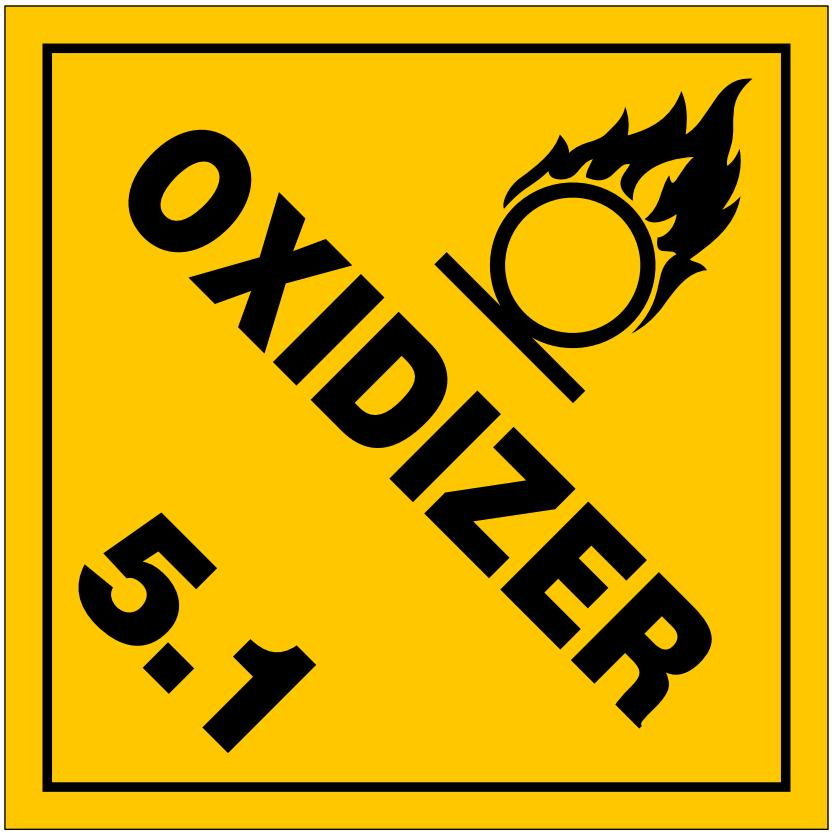oxidizer: (1, 1, 832, 833)
